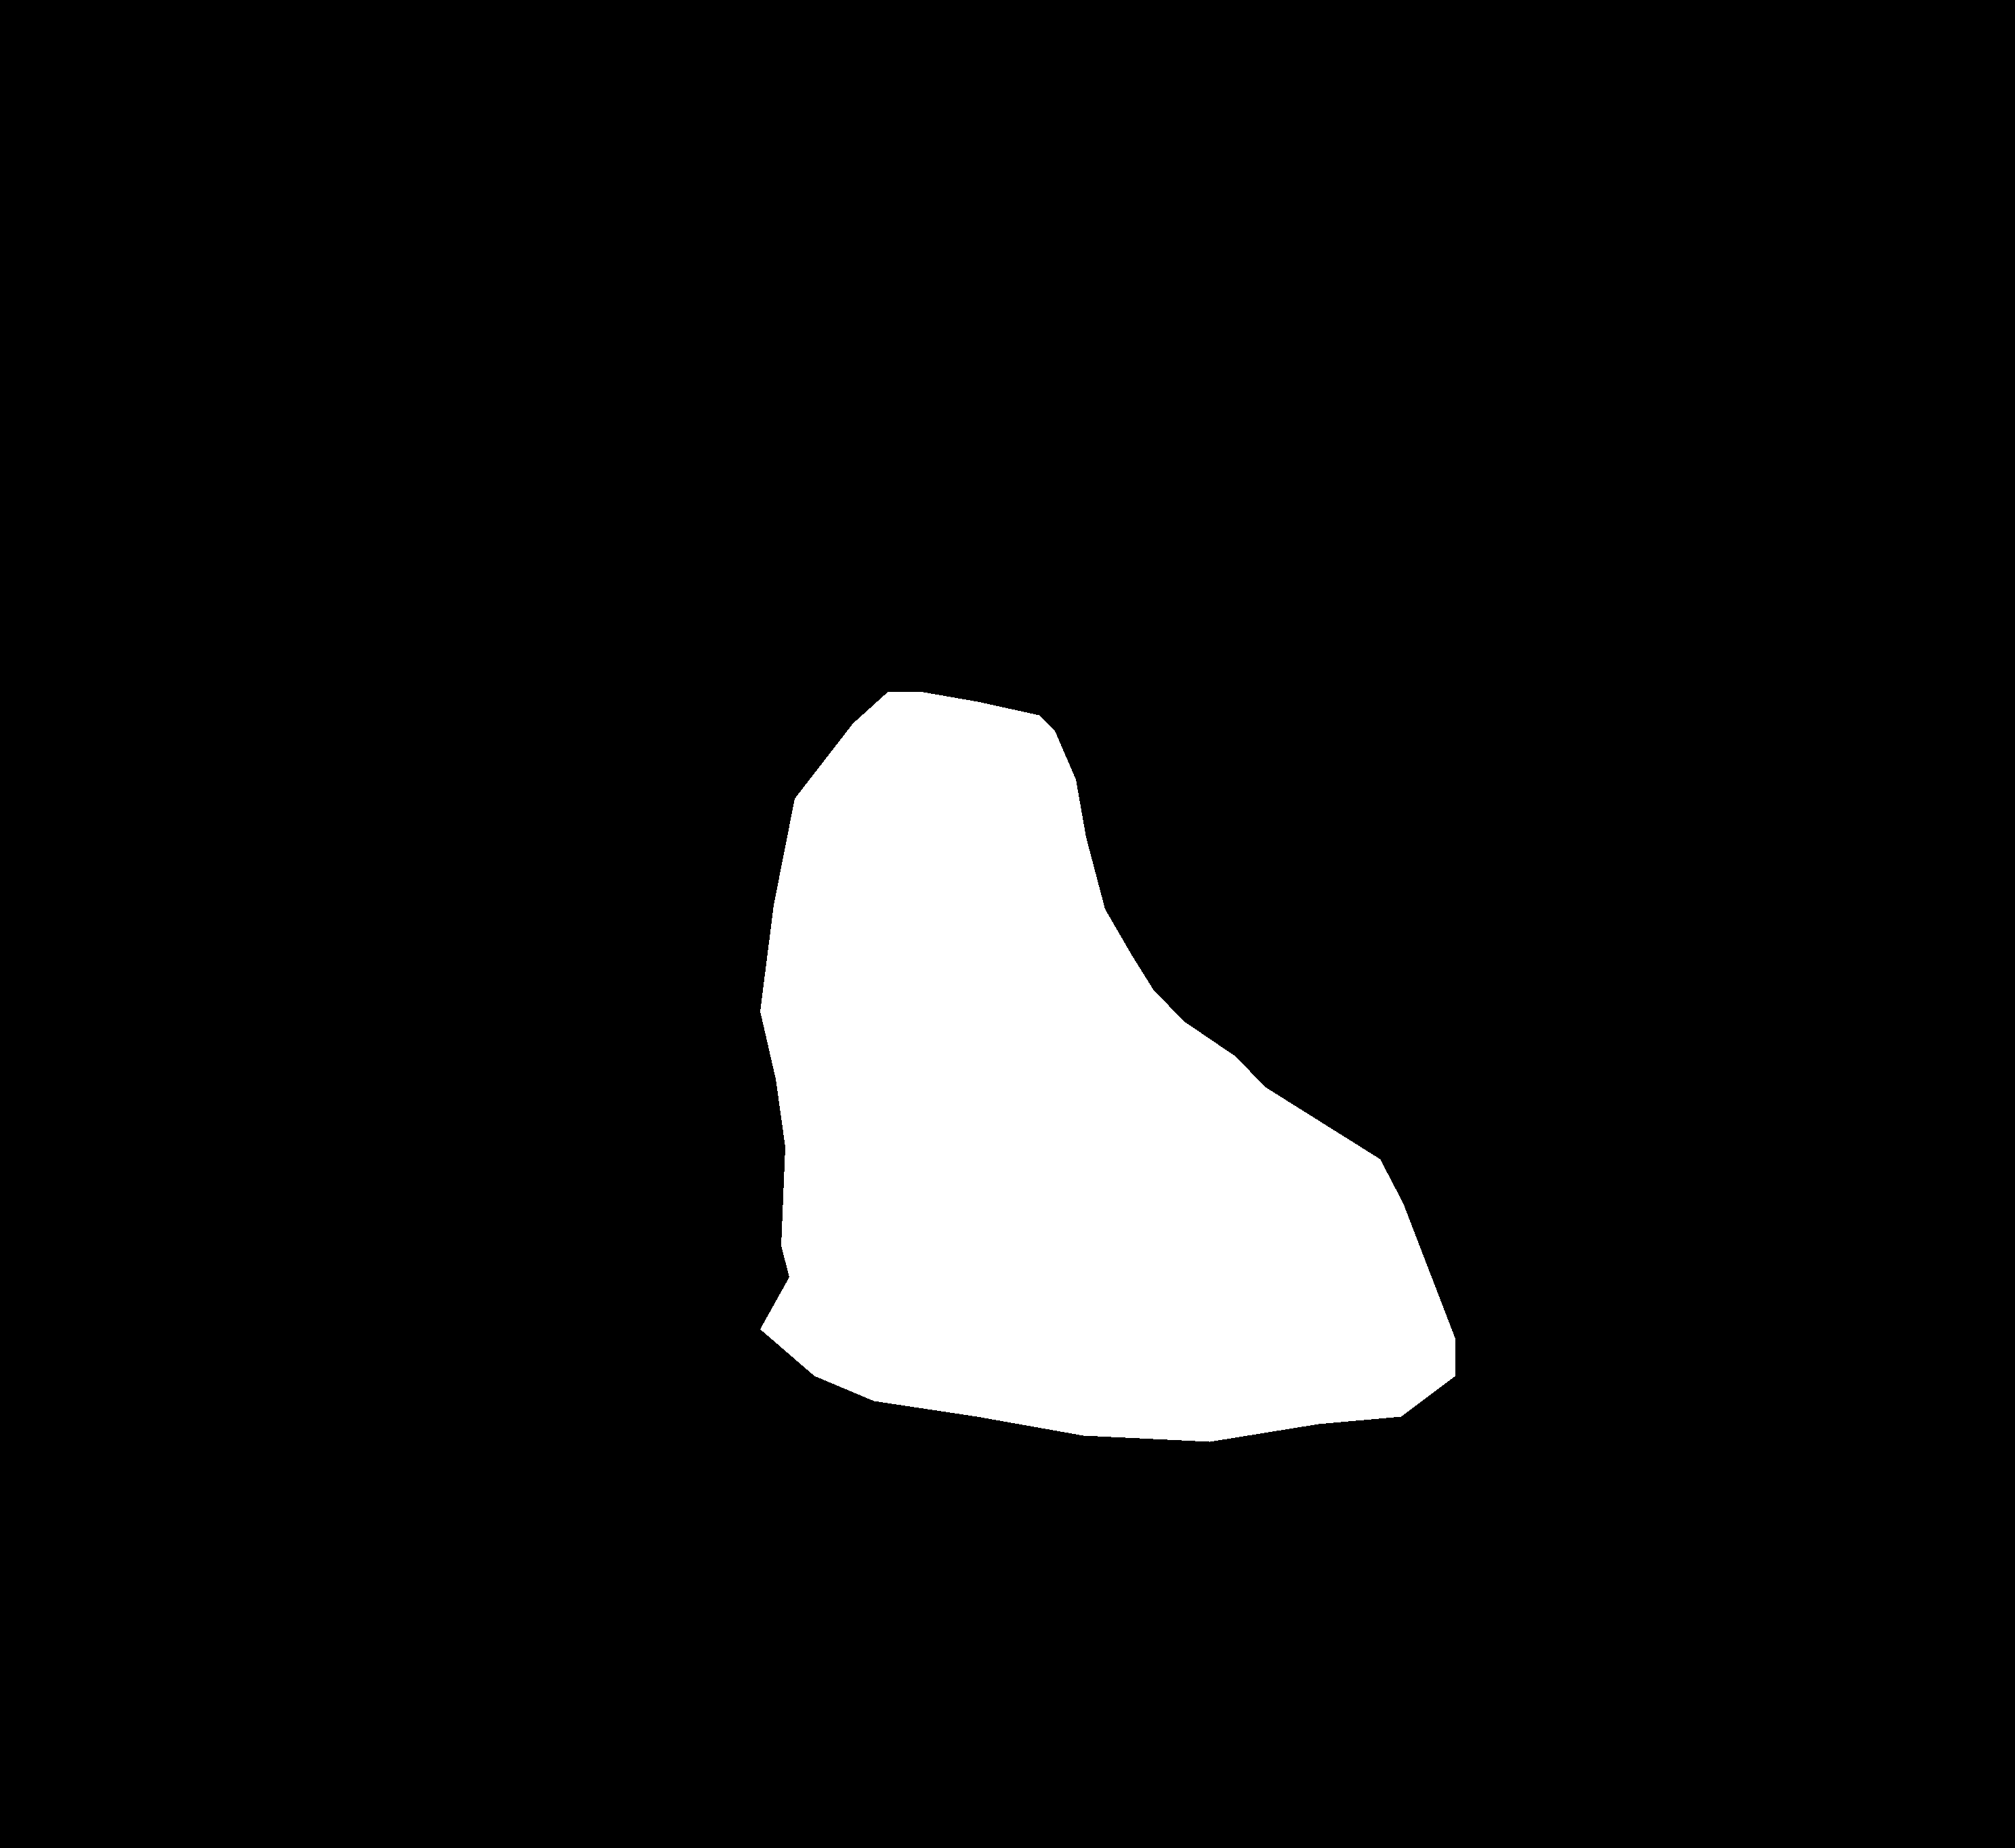heart: (760, 691, 1455, 1441)
left_lung: (160, 167, 835, 1564)
right_lung: (1002, 184, 1718, 1544)
